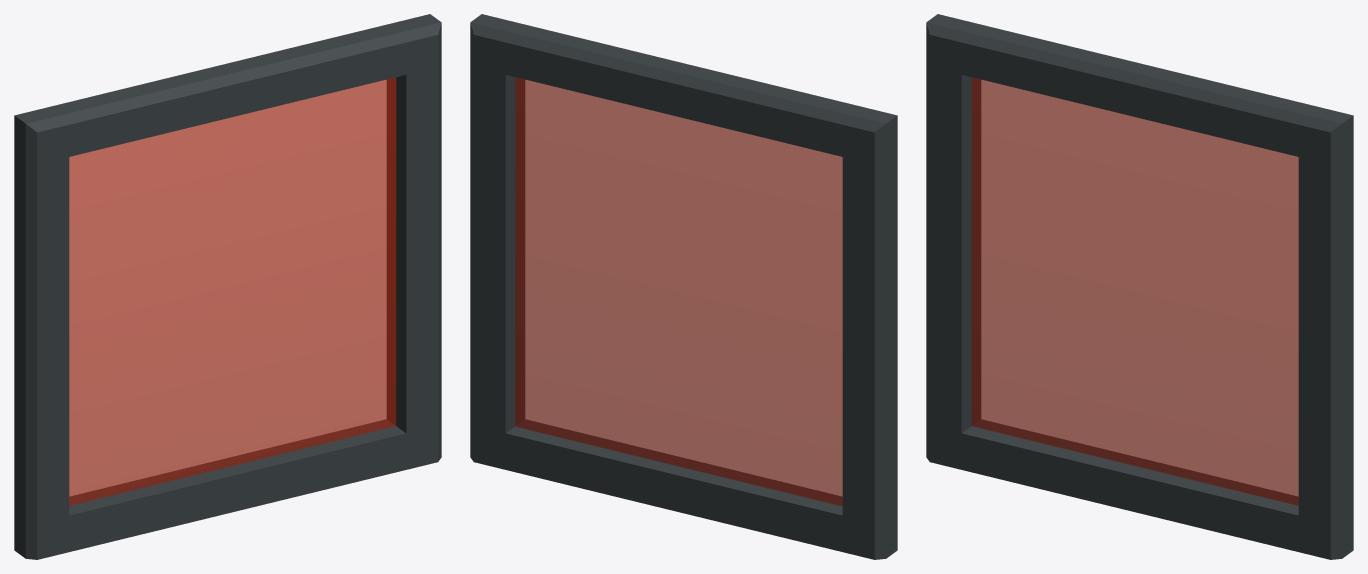
The model's file is Wall Glass Red.fbx.
3 views of the same model, side by side, from view 1: azimuth 30°, elevation 25°; view 2: azimuth 150°, elevation 25°; view 3: azimuth 330°, elevation 25° (orthographic).
Parts seen in each view (by area): view 1: Wall Glass Red; view 2: Wall Glass Red; view 3: Wall Glass Red.
Boxes of the visible parts, x1=… form: Wall Glass Red: x1=14, y1=14, x2=441, y2=559; Wall Glass Red: x1=470, y1=14, x2=897, y2=559; Wall Glass Red: x1=926, y1=14, x2=1353, y2=559.
Bounding box in the file's own units: 400 × 400 × 32.41.
